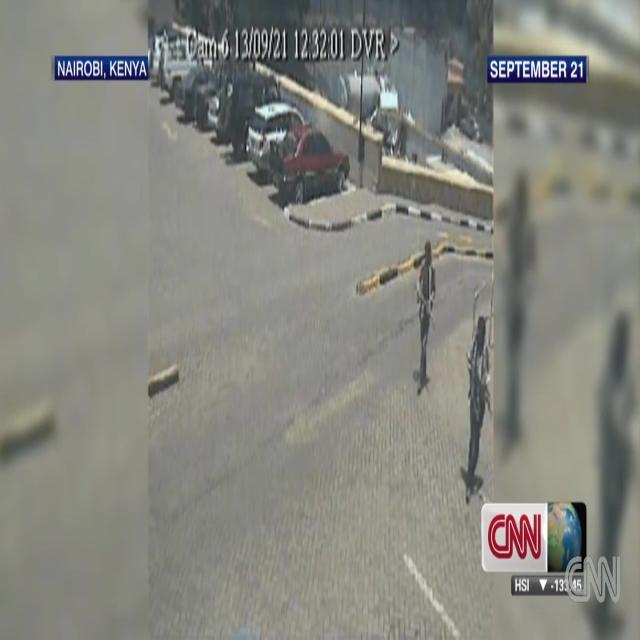Weapon: (461, 337, 508, 425), (410, 268, 441, 337)
